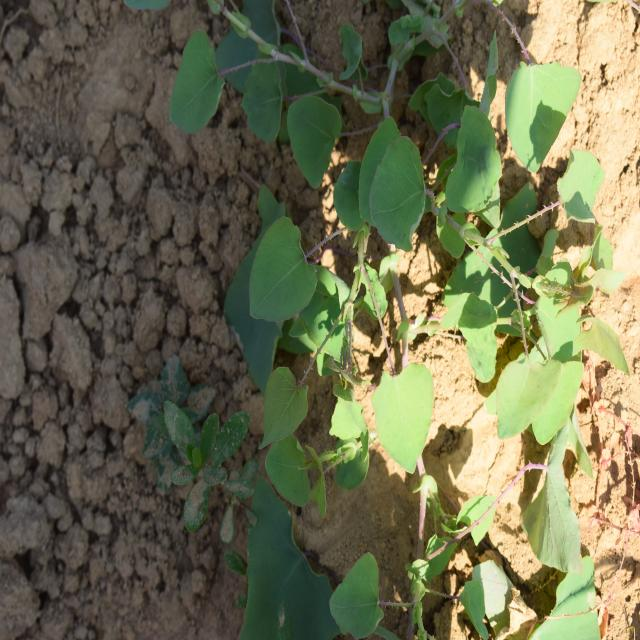Asiatic_Smartweed: (235, 125, 446, 458), (444, 58, 621, 442)
